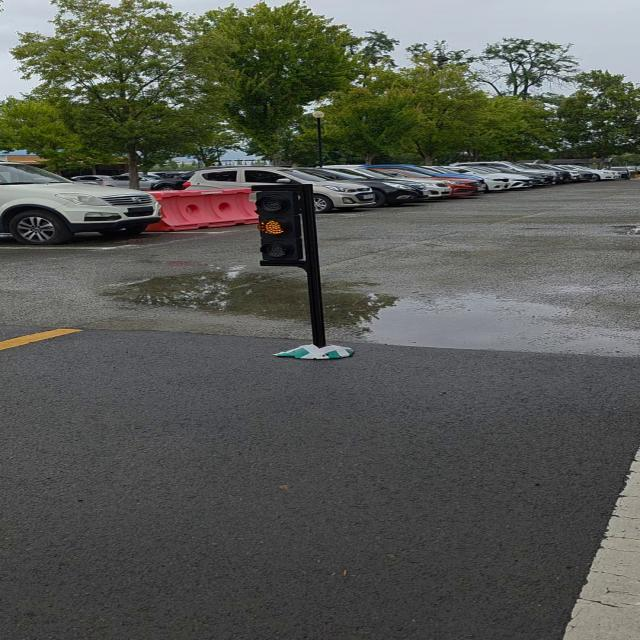yellow: (256, 188, 318, 270)
